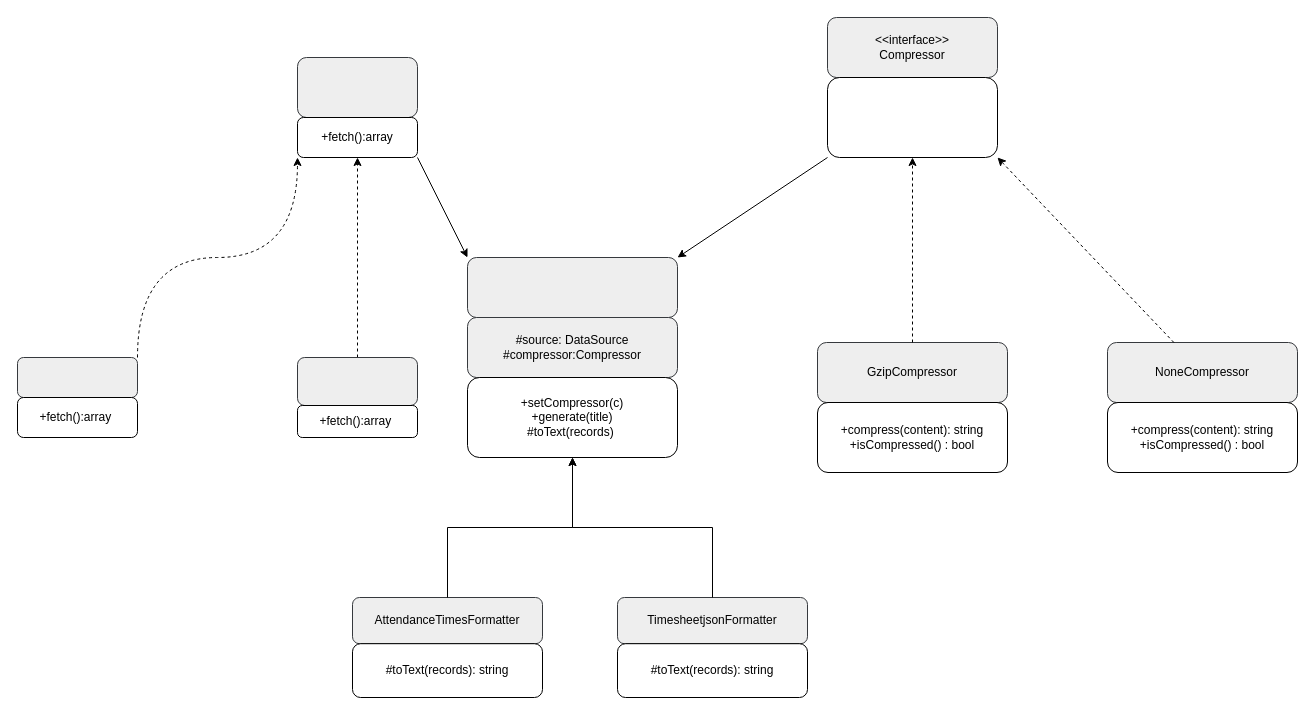
Image size: 1315x715. Some labels were removed from this diagram. Here are the shapes that lost their labels. From the top down, the centre of each, then its label:
At pixel 357 87: "<<interface>> DataSource".
At pixel 912 117: "+compress(content) +isCompressed(): bool".
At pixel 572 287: "<<abstract>> TimesFormatter".
At pixel 77 377: "FileDataSource".
At pixel 357 381: "ApiDataSource".
